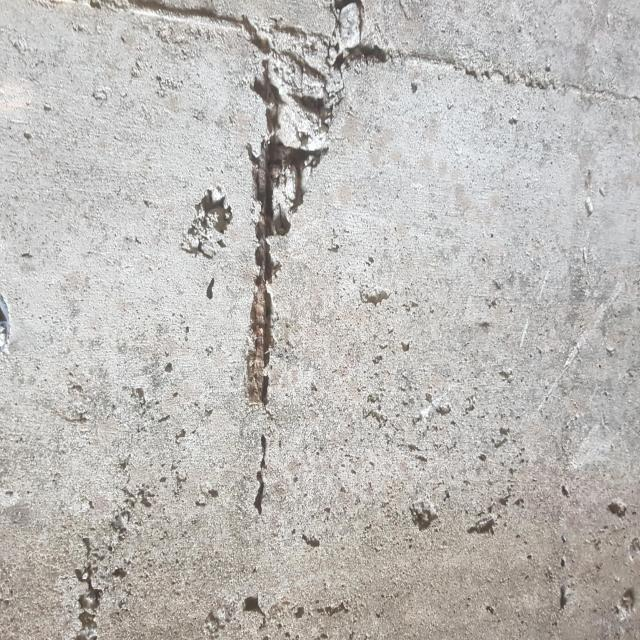SurfaceCrack: (204, 1, 379, 638)
